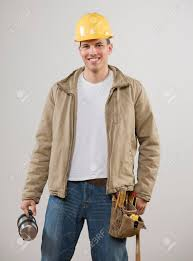Person_wearing_helmet: (69, 4, 123, 54)
